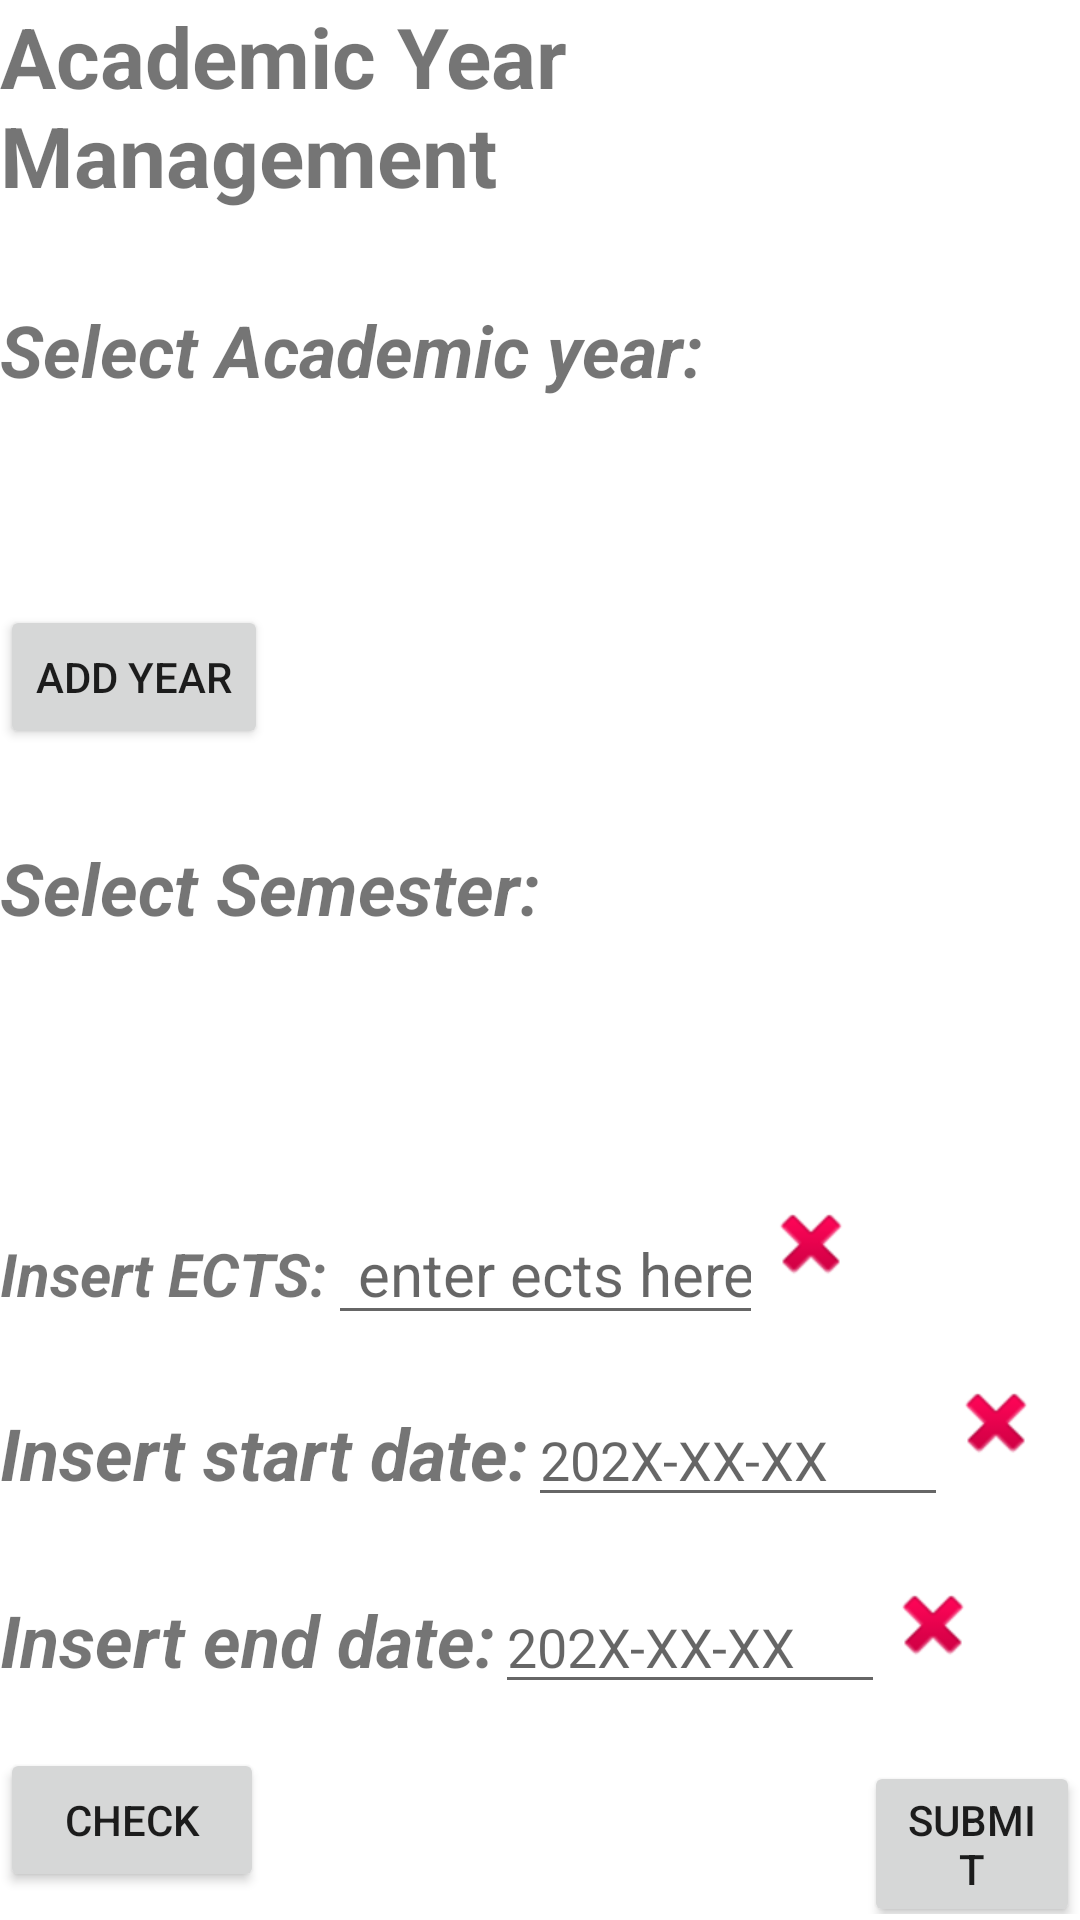

Named icons in this screenshot (1080w x 1920h) and their bounding boxes, [x1,y1,x2,y2]:
delete: [780,1214,842,1273], [965,1393,1027,1452], [902,1595,964,1654]
